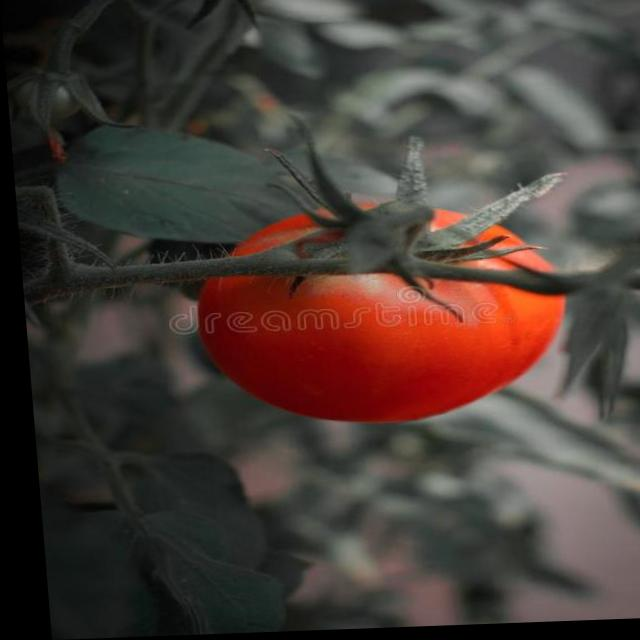kirmizi: (158, 166, 584, 440)
